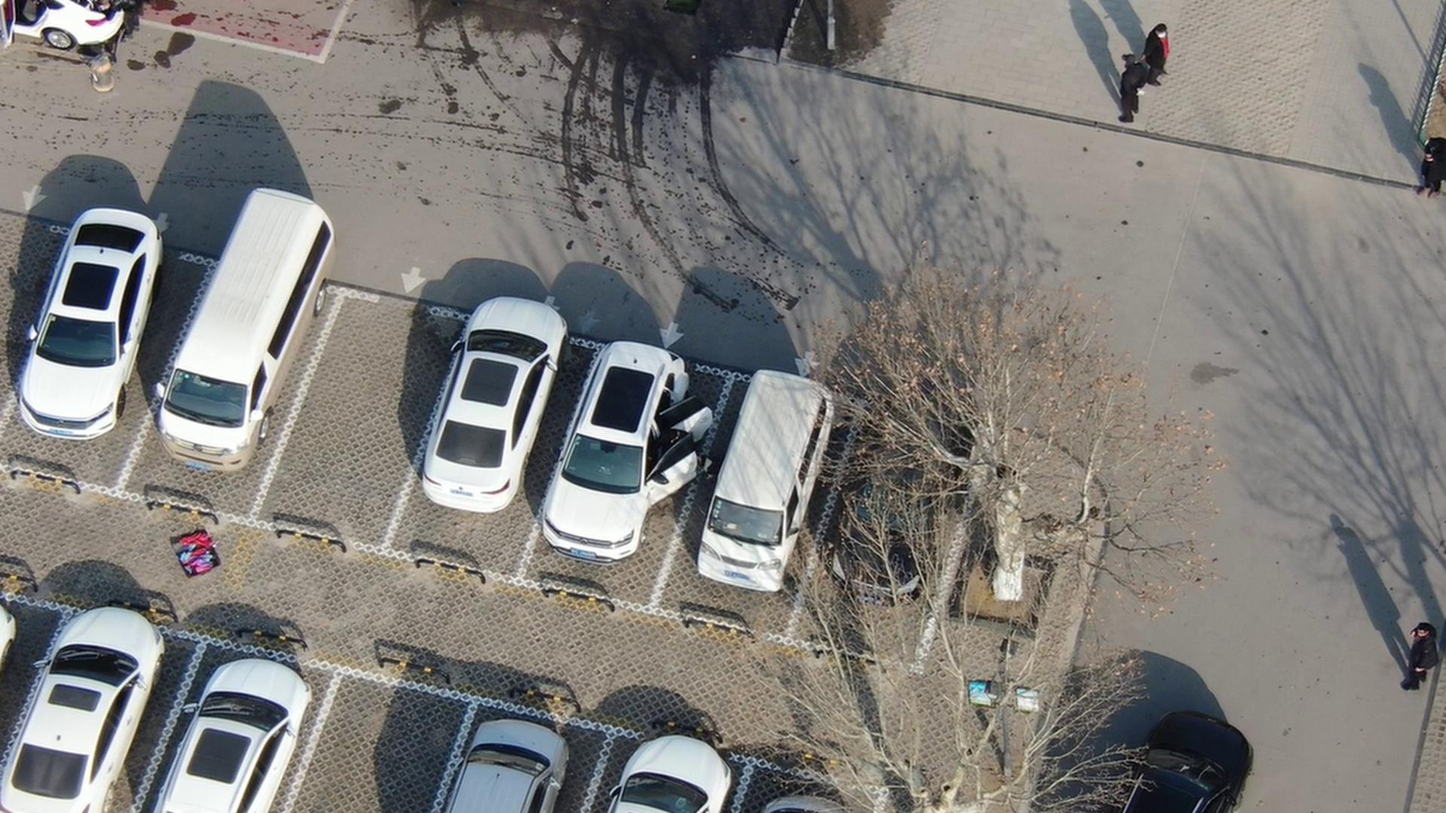class_2: (1110, 21, 1173, 132)
human: (1391, 614, 1435, 705), (1400, 138, 1446, 204)
